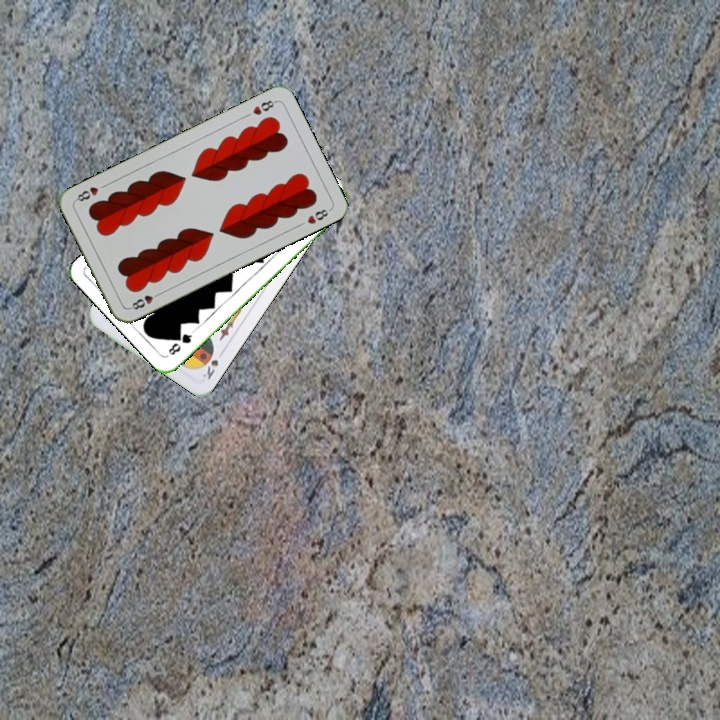G8: (164, 327, 197, 358)
H8: (126, 288, 164, 312), (249, 96, 279, 118)
SK: (198, 355, 221, 382)
